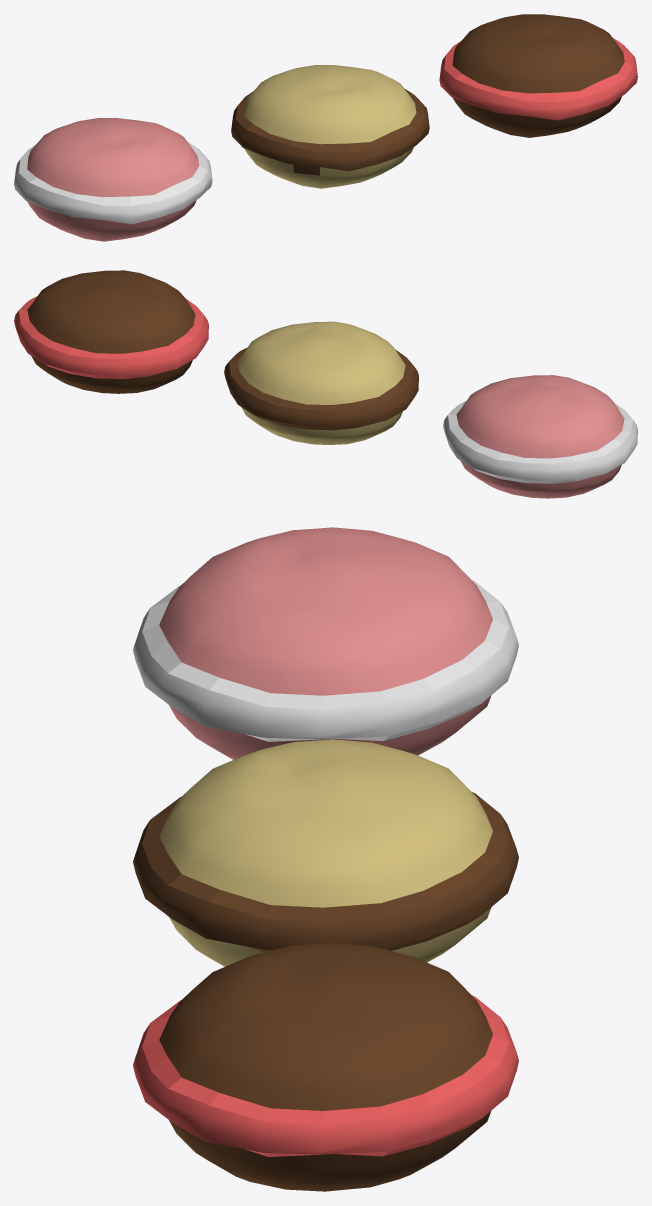
Rendered from Macarons.fbx.
The picture shows the model from 3 angles, top to bottom: view 1: azimuth 30°, elevation 25°; view 2: azimuth 150°, elevation 25°; view 3: azimuth 270°, elevation 25°; orthographic projection. The views are drawn at different scales.
Parts seen in each view (by area): view 1: pSphere16, pSphere18, pSphere17; view 2: pSphere18, pSphere16, pSphere17; view 3: pSphere18, pSphere16, pSphere17.
Part boxes in pixels (left/top/right/bottom): pSphere16: left=14, top=118, right=212, bottom=241; pSphere18: left=439, top=14, right=637, bottom=137; pSphere17: left=231, top=65, right=429, bottom=188; pSphere18: left=14, top=270, right=208, bottom=393; pSphere16: left=443, top=375, right=637, bottom=498; pSphere17: left=224, top=321, right=418, bottom=444; pSphere18: left=133, top=942, right=518, bottom=1191; pSphere16: left=133, top=527, right=518, bottom=759; pSphere17: left=133, top=739, right=518, bottom=966.
Bounding box in the file's own units: 32.41 × 4.84 × 9.06.
